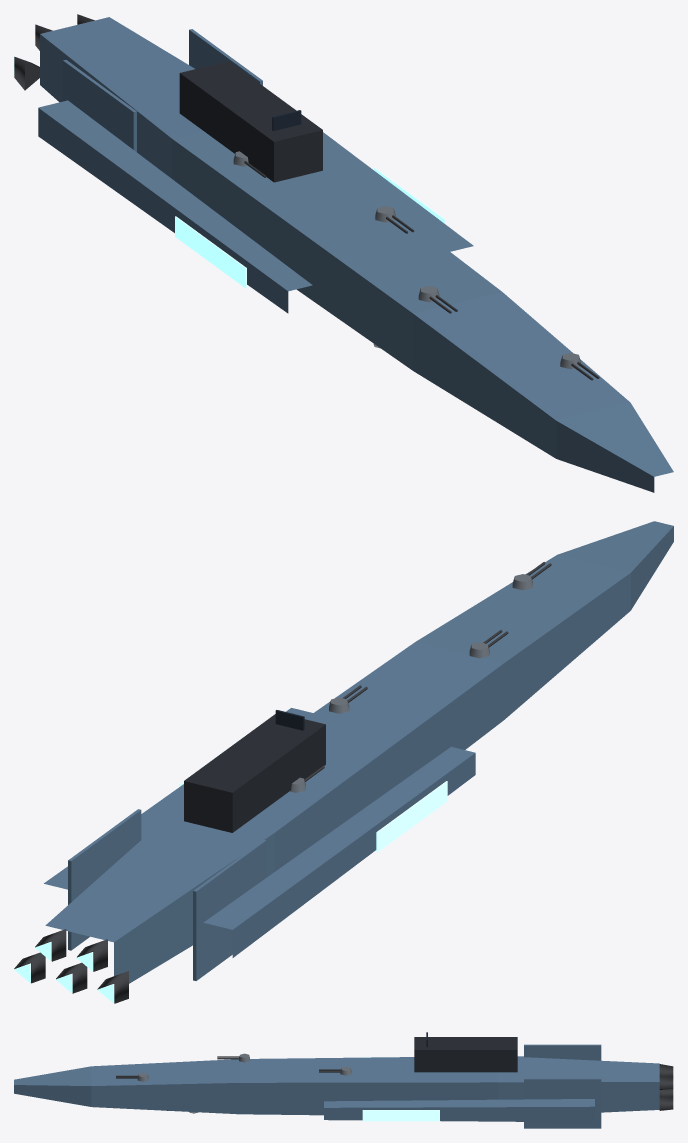
Rendered from space_ship_cruiser_mk5_lod2.glb.
3 renders of one model, top to bottom at view 1: azimuth 30°, elevation 25°; view 2: azimuth 150°, elevation 25°; view 3: azimuth 270°, elevation 25°, orthographic. The views are drawn at different scales.
Parts seen in each view (by area): view 1: body, hangar_r; view 2: body, hangar_r, engine_3; view 3: body, hangar_l, engine_3, engine_4, turret_0, turret_2, turret_4, engine_1.
Boxes of the visible parts, bbox=[...] form: body: bbox=[38, 17, 673, 492]; hangar_r: bbox=[175, 216, 246, 288]; body: bbox=[44, 521, 673, 983]; hangar_r: bbox=[376, 781, 447, 852]; engine_3: bbox=[35, 929, 66, 961]; body: bbox=[14, 1032, 659, 1128]; hangar_l: bbox=[362, 1110, 439, 1121]; engine_3: bbox=[659, 1075, 673, 1090]; engine_4: bbox=[659, 1095, 673, 1110]; turret_0: bbox=[116, 1073, 148, 1081]; turret_2: bbox=[217, 1053, 249, 1062]; turret_4: bbox=[319, 1066, 351, 1075]; engine_1: bbox=[659, 1064, 673, 1077].
Bounding box in the file's own units: 18.56 × 12.2 × 96.84.
